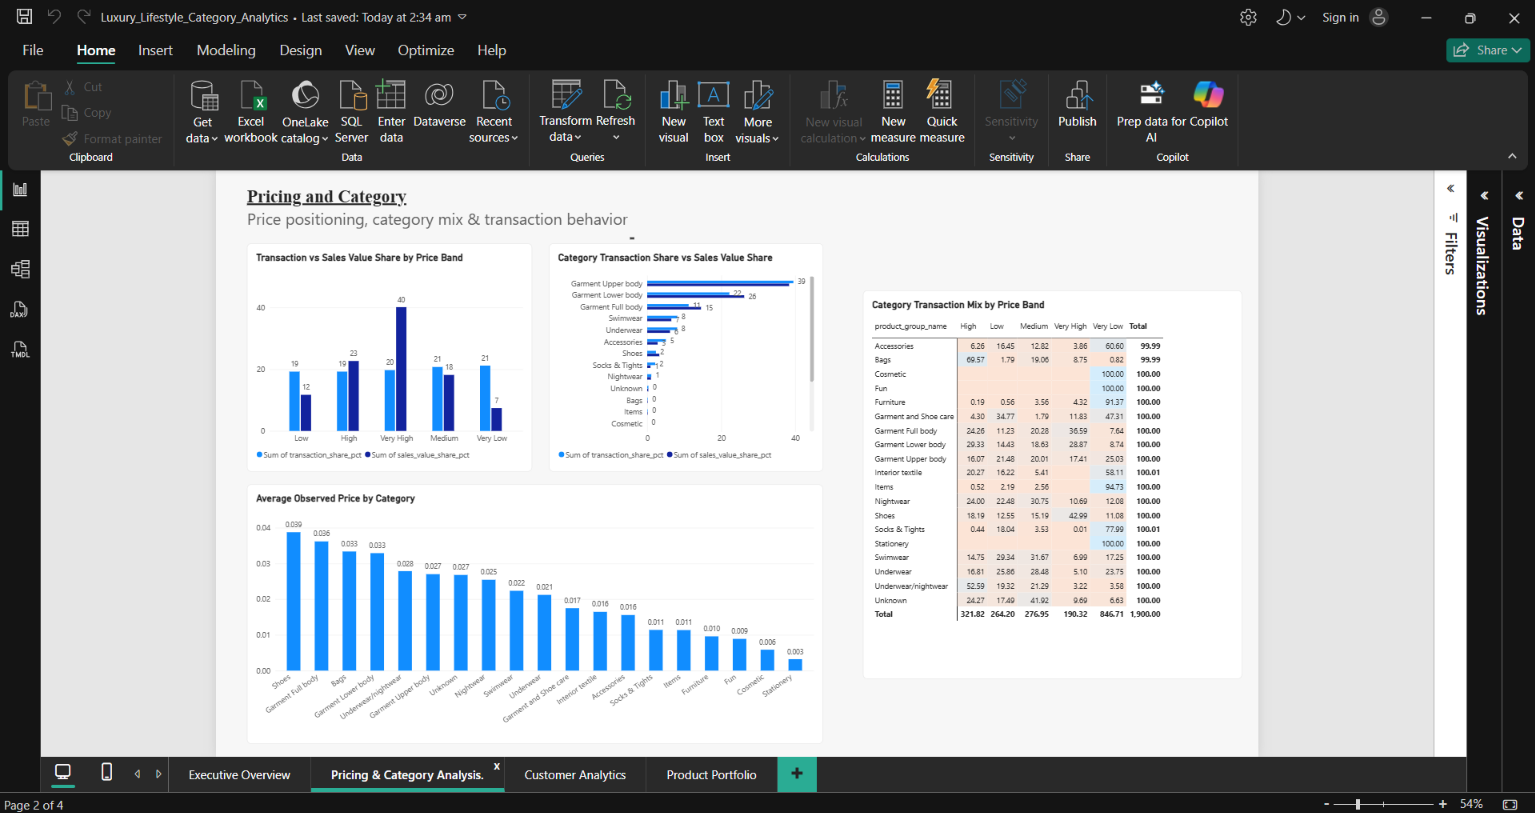

What the dashboard file says about the page in this screenshot:
{"tool":"powerbi","page":{"name":"Pricing & Category Analysis.","canvas":[1920,1080],"ordinal":1},"visuals":[{"type":"clusteredColumnChart","title":"Transaction vs Sales Value Share by Price Band","fields":{"Category":["price_band_summary.price_band"],"Y":["Sum(price_band_summary.transaction_share_pct)","Sum(price_band_summary.sales_value_share_pct)"]},"box":[57.5,135,525,420],"z":0},{"type":"clusteredColumnChart","title":"Average Observed Price by Category","fields":{"Category":["category_price_summary.product_group_name"],"Y":["Avg(category_price_summary.avg_price)"]},"box":[57.5,577.5,1060,477.5],"z":1000},{"type":"clusteredBarChart","title":"Category Transaction Share vs Sales Value Share","fields":{"Category":["category_price_summary.product_group_name"],"Y":["Sum(category_price_summary.transaction_share_pct)","Sum(category_price_summary.sales_value_share_pct)"]},"box":[612.5,135,505,420],"z":2000},{"type":"pivotTable","title":"Category Transaction Mix by Price Band","fields":{"Columns":["category_price_band_summary.price_band"],"Rows":["category_price_band_summary.product_group_name"],"Values":["Sum(category_price_band_summary.category_transaction_share_pct)"]},"box":[1190,220,697.5,715],"z":3000},{"type":"textbox","title":"Pricing and Category ","box":[57.5,30,712.5,97.5],"z":4000}]}

Visuals, with their boxes on the page's 1920x1080 design canvas (x1, y1, x2, y2). These are canvas units, not pixel positions in the 1535x813 screenshot, which may show the page scaled, cropped or inside an application window:
"Transaction vs Sales Value Share by Price Band" clusteredColumnChart: (left=58, top=135, right=582, bottom=555)
"Average Observed Price by Category" clusteredColumnChart: (left=58, top=578, right=1118, bottom=1055)
"Category Transaction Share vs Sales Value Share" clusteredBarChart: (left=612, top=135, right=1118, bottom=555)
"Category Transaction Mix by Price Band" pivotTable: (left=1190, top=220, right=1888, bottom=935)
"Pricing and Category " textbox: (left=58, top=30, right=770, bottom=128)
